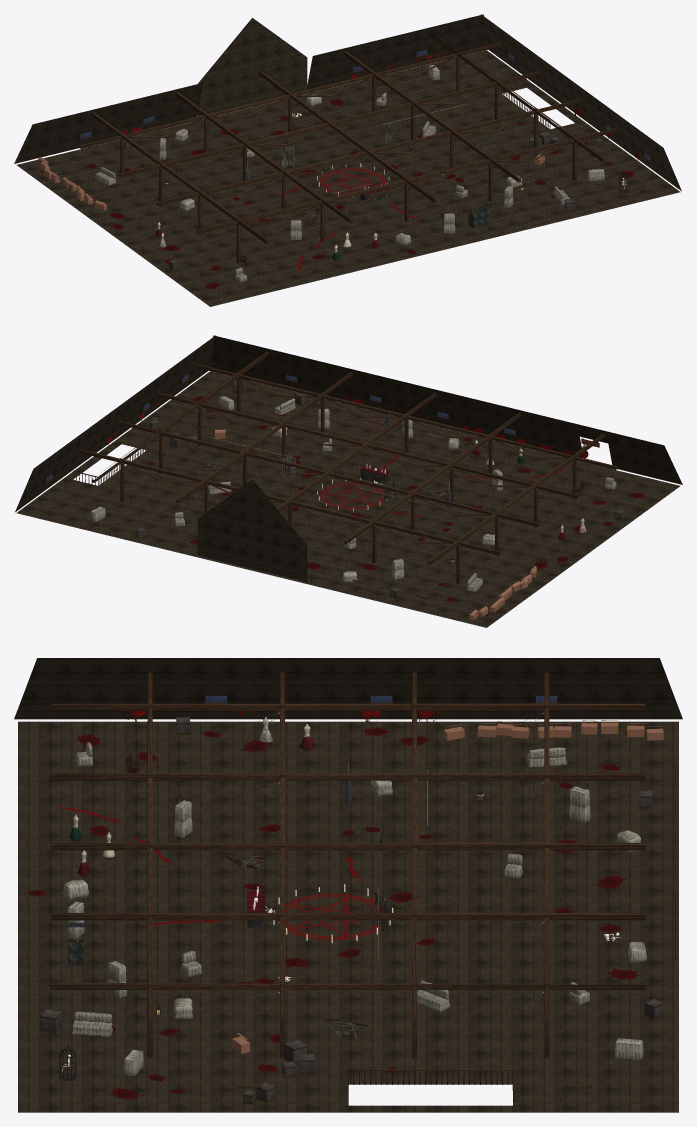
Rendered from house_attic_v15.glb.
3 views of the same model, one above another, from view 1: azimuth 30°, elevation 25°; view 2: azimuth 150°, elevation 25°; view 3: azimuth 270°, elevation 25° (orthographic). The views are drawn at different scales.
Visible parts, largest first — view 1: house_attic; view 2: house_attic; view 3: house_attic.
Boxes of the visible parts, left/top/right/bottom form: house_attic: left=14, top=14, right=681, bottom=306; house_attic: left=15, top=335, right=682, bottom=627; house_attic: left=14, top=658, right=682, bottom=1112.
Size of the model in its own units: 56.5 by 10.67 by 40.5.
Materials: 45 (35 with a texture image).
